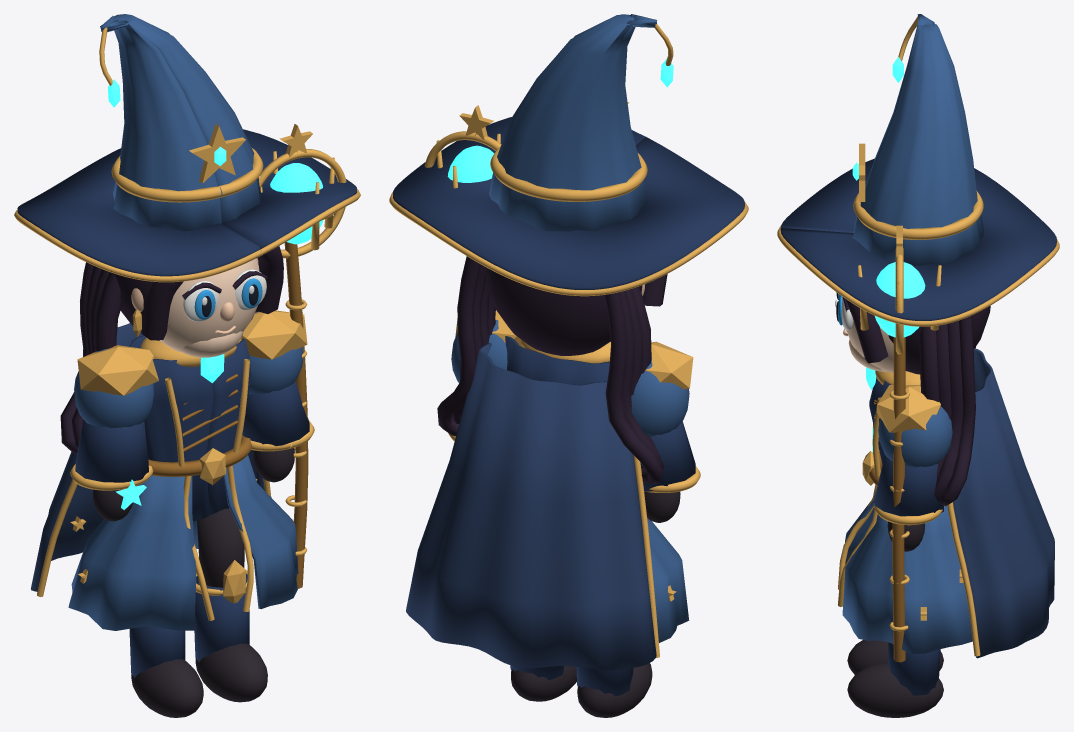
Rendered from lia-refined-v15.fbx.
The picture shows the model from 3 angles, left to right: view 1: azimuth 30°, elevation 25°; view 2: azimuth 150°, elevation 25°; view 3: azimuth 270°, elevation 25°; orthographic projection. The views are drawn at different scales.
Parts seen in each view (by area): view 1: Dress, BentHatCrown, WavyHatBrim, FittedBodice, FlowingCape, Sleeve, Face, ShoulderPlate, Sleeve.001, Boot.001, Boot, BootShaft.001 (+32 smaller); view 2: FlowingCape, WavyHatBrim, BentHatCrown, HairVolume, HairCurl.003, Dress, HairCurl.007, SleeveCap, HatGoldRim, FittedBodice, HatBand, Boot (+15 smaller); view 3: BentHatCrown, FlowingCape, WavyHatBrim, Dress, Boot.001, StaffShaft, HairCurl.007, Sleeve.001, SleeveCap.001, HairCurl.006, HatGoldRim, ShoulderPlate.001 (+15 smaller).
Part boxes in pixels (box(x1,y1,x2,y2)): Dress: box(68, 455, 298, 630); BentHatCrown: box(100, 14, 260, 231); WavyHatBrim: box(17, 129, 356, 276); FittedBodice: box(129, 335, 251, 521); FlowingCape: box(31, 323, 264, 591); Sleeve: box(75, 419, 148, 482); Face: box(159, 258, 259, 352); ShoulderPlate: box(77, 345, 158, 395); Sleeve.001: box(242, 381, 309, 445); Boot.001: box(195, 643, 267, 702); Boot: box(131, 659, 203, 717); BootShaft.001: box(194, 573, 249, 662); FlowingCape: box(406, 342, 656, 670); WavyHatBrim: box(393, 117, 744, 289); BentHatCrown: box(489, 14, 656, 231); HairVolume: box(485, 267, 642, 355); HairCurl.003: box(604, 292, 664, 483); Dress: box(647, 518, 689, 642); HairCurl.007: box(437, 256, 480, 436); SleeveCap: box(631, 358, 689, 436); HatGoldRim: box(389, 192, 748, 296); FittedBodice: box(505, 336, 609, 384); HatBand: box(490, 146, 647, 201); Boot: box(577, 663, 652, 717); BentHatCrown: box(852, 14, 984, 266); FlowingCape: box(953, 348, 1054, 658); WavyHatBrim: box(780, 158, 1056, 320); Dress: box(842, 465, 972, 653); Boot.001: box(847, 662, 943, 717); StaffShaft: box(892, 337, 905, 662); HairCurl.007: box(938, 315, 975, 506); Sleeve.001: box(874, 455, 943, 516); SleeveCap.001: box(878, 406, 952, 467); HairCurl.006: box(934, 320, 963, 500); HatGoldRim: box(777, 225, 1059, 326); ShoulderPlate.001: box(877, 385, 940, 432).
Size of the model in its own units: 126 by 267 by 105.
